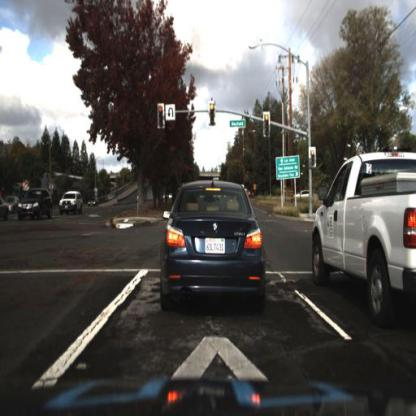car: (308, 152, 416, 314), (159, 179, 270, 314), (16, 188, 54, 223), (59, 191, 83, 217), (295, 188, 318, 204), (1, 199, 9, 225), (87, 197, 99, 211)
trafficLight-Red: (263, 110, 273, 141), (309, 145, 319, 174), (209, 101, 218, 127), (310, 148, 318, 169)
trafficLight-RedLeft: (155, 102, 165, 136), (158, 103, 166, 129)
